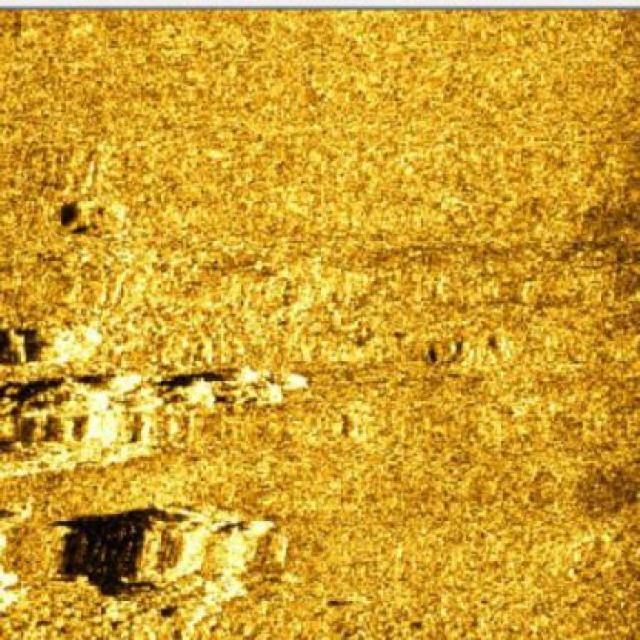bedrock group: (0, 310, 314, 639)
